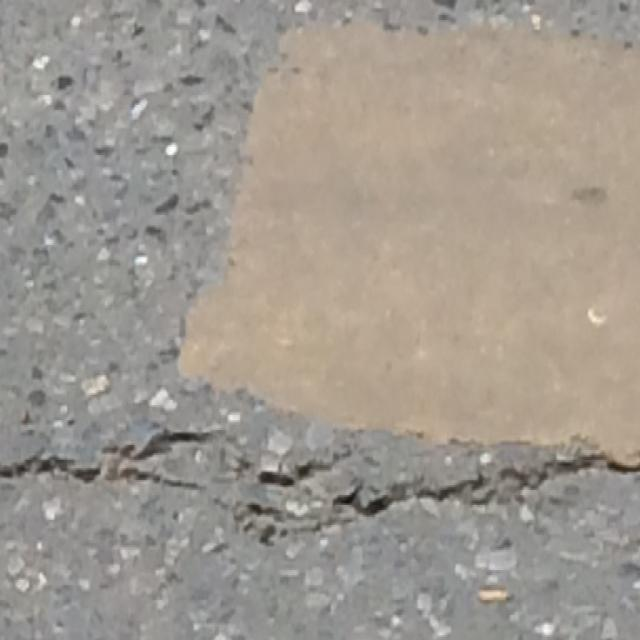Transverse: (0, 426, 640, 523)
